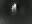person: (12, 3, 17, 16)
